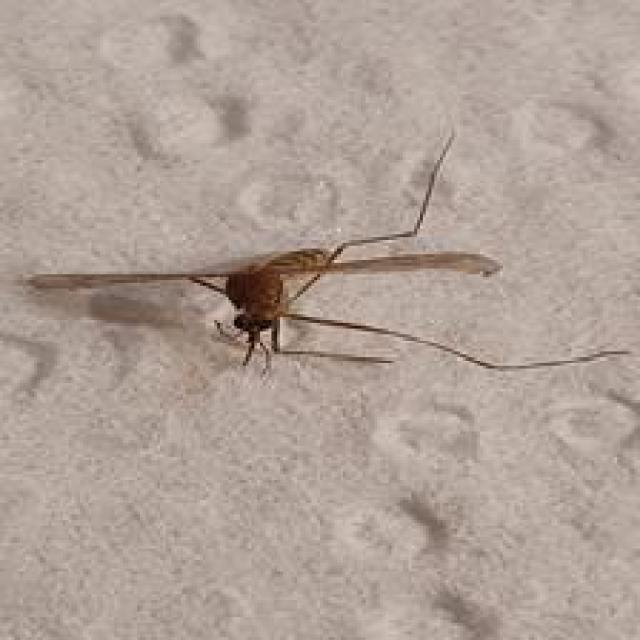Culex: (23, 124, 631, 379)
